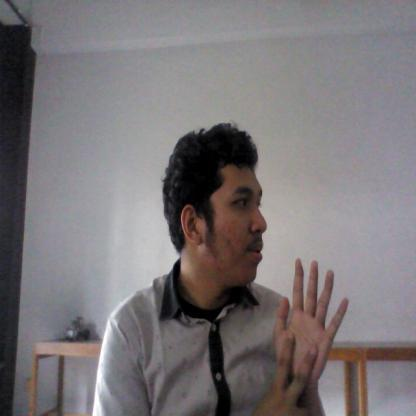N: (264, 249, 355, 415)
